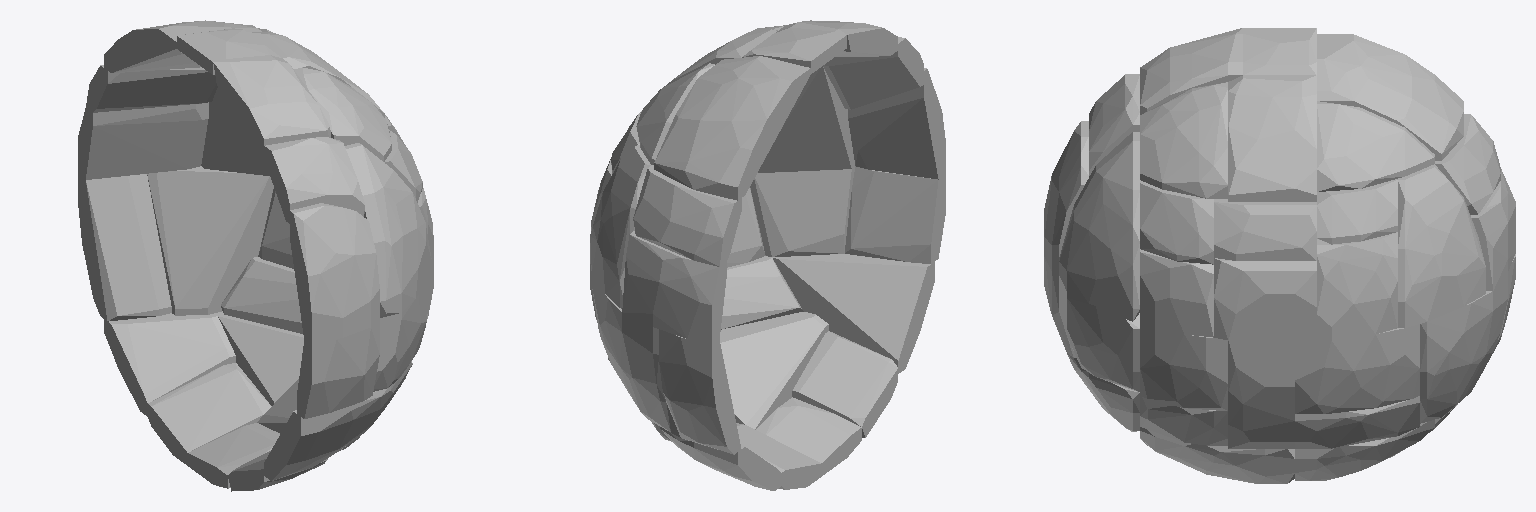
--- What the picture shows (computed from the rendered views, not written in the file) ---
3 views of the same robot in one strip: view 1: azimuth 30°, elevation 25°; view 2: azimuth 150°, elevation 25°; view 3: azimuth 270°, elevation 25° (orthographic).
Robot: root — 34 links, 33 joints (33 fixed); root link link_6930c4d2e7e880b2e20e92c5b8147e4a_convex_piece_0; default pose: every joint at zero.
Links seen in each view (by area): view 1: link_6930c4d2e7e880b2e20e92c5b8147e4a_convex_piece_14, link_6930c4d2e7e880b2e20e92c5b8147e4a_convex_piece_13, link_6930c4d2e7e880b2e20e92c5b8147e4a_convex_piece_15, link_6930c4d2e7e880b2e20e92c5b8147e4a_convex_piece_17, link_6930c4d2e7e880b2e20e92c5b8147e4a_convex_piece_10, link_6930c4d2e7e880b2e20e92c5b8147e4a_convex_piece_2, link_6930c4d2e7e880b2e20e92c5b8147e4a_convex_piece_28, link_6930c4d2e7e880b2e20e92c5b8147e4a_convex_piece_9, link_6930c4d2e7e880b2e20e92c5b8147e4a_convex_piece_16, link_6930c4d2e7e880b2e20e92c5b8147e4a_convex_piece_5, link_6930c4d2e7e880b2e20e92c5b8147e4a_convex_piece_0, link_6930c4d2e7e880b2e20e92c5b8147e4a_convex_piece_18 (+13 smaller); view 2: link_6930c4d2e7e880b2e20e92c5b8147e4a_convex_piece_3, link_6930c4d2e7e880b2e20e92c5b8147e4a_convex_piece_0, link_6930c4d2e7e880b2e20e92c5b8147e4a_convex_piece_5, link_6930c4d2e7e880b2e20e92c5b8147e4a_convex_piece_17, link_6930c4d2e7e880b2e20e92c5b8147e4a_convex_piece_7, link_6930c4d2e7e880b2e20e92c5b8147e4a_convex_piece_6, link_6930c4d2e7e880b2e20e92c5b8147e4a_convex_piece_15, link_6930c4d2e7e880b2e20e92c5b8147e4a_convex_piece_13, link_6930c4d2e7e880b2e20e92c5b8147e4a_convex_piece_18, link_6930c4d2e7e880b2e20e92c5b8147e4a_convex_piece_20, link_6930c4d2e7e880b2e20e92c5b8147e4a_convex_piece_2, link_6930c4d2e7e880b2e20e92c5b8147e4a_convex_piece_14 (+12 smaller); view 3: link_6930c4d2e7e880b2e20e92c5b8147e4a_convex_piece_31, link_6930c4d2e7e880b2e20e92c5b8147e4a_convex_piece_19, link_6930c4d2e7e880b2e20e92c5b8147e4a_convex_piece_2, link_6930c4d2e7e880b2e20e92c5b8147e4a_convex_piece_3, link_6930c4d2e7e880b2e20e92c5b8147e4a_convex_piece_12, link_6930c4d2e7e880b2e20e92c5b8147e4a_convex_piece_30, link_6930c4d2e7e880b2e20e92c5b8147e4a_convex_piece_26, link_6930c4d2e7e880b2e20e92c5b8147e4a_convex_piece_32, link_6930c4d2e7e880b2e20e92c5b8147e4a_convex_piece_4, link_6930c4d2e7e880b2e20e92c5b8147e4a_convex_piece_14, link_6930c4d2e7e880b2e20e92c5b8147e4a_convex_piece_8, link_6930c4d2e7e880b2e20e92c5b8147e4a_convex_piece_23 (+17 smaller).
Link boxes in pixels (bbox=[...]): link_6930c4d2e7e880b2e20e92c5b8147e4a_convex_piece_14: bbox=[147, 166, 273, 315]; link_6930c4d2e7e880b2e20e92c5b8147e4a_convex_piece_13: bbox=[78, 174, 171, 321]; link_6930c4d2e7e880b2e20e92c5b8147e4a_convex_piece_15: bbox=[290, 203, 379, 344]; link_6930c4d2e7e880b2e20e92c5b8147e4a_convex_piece_17: bbox=[78, 102, 208, 179]; link_6930c4d2e7e880b2e20e92c5b8147e4a_convex_piece_10: bbox=[104, 313, 235, 416]; link_6930c4d2e7e880b2e20e92c5b8147e4a_convex_piece_2: bbox=[345, 143, 431, 317]; link_6930c4d2e7e880b2e20e92c5b8147e4a_convex_piece_28: bbox=[213, 55, 330, 151]; link_6930c4d2e7e880b2e20e92c5b8147e4a_convex_piece_9: bbox=[148, 363, 271, 465]; link_6930c4d2e7e880b2e20e92c5b8147e4a_convex_piece_16: bbox=[264, 137, 364, 223]; link_6930c4d2e7e880b2e20e92c5b8147e4a_convex_piece_5: bbox=[297, 322, 379, 418]; link_6930c4d2e7e880b2e20e92c5b8147e4a_convex_piece_0: bbox=[264, 361, 412, 480]; link_6930c4d2e7e880b2e20e92c5b8147e4a_convex_piece_18: bbox=[86, 65, 218, 112]; link_6930c4d2e7e880b2e20e92c5b8147e4a_convex_piece_3: bbox=[654, 56, 810, 200]; link_6930c4d2e7e880b2e20e92c5b8147e4a_convex_piece_0: bbox=[772, 254, 934, 373]; link_6930c4d2e7e880b2e20e92c5b8147e4a_convex_piece_5: bbox=[845, 166, 945, 263]; link_6930c4d2e7e880b2e20e92c5b8147e4a_convex_piece_17: bbox=[622, 231, 726, 344]; link_6930c4d2e7e880b2e20e92c5b8147e4a_convex_piece_7: bbox=[720, 312, 828, 429]; link_6930c4d2e7e880b2e20e92c5b8147e4a_convex_piece_6: bbox=[750, 167, 854, 256]; link_6930c4d2e7e880b2e20e92c5b8147e4a_convex_piece_15: bbox=[848, 68, 945, 179]; link_6930c4d2e7e880b2e20e92c5b8147e4a_convex_piece_13: bbox=[659, 329, 740, 454]; link_6930c4d2e7e880b2e20e92c5b8147e4a_convex_piece_18: bbox=[633, 165, 741, 266]; link_6930c4d2e7e880b2e20e92c5b8147e4a_convex_piece_20: bbox=[792, 331, 897, 437]; link_6930c4d2e7e880b2e20e92c5b8147e4a_convex_piece_2: bbox=[758, 66, 854, 172]; link_6930c4d2e7e880b2e20e92c5b8147e4a_convex_piece_14: bbox=[592, 274, 680, 437]; link_6930c4d2e7e880b2e20e92c5b8147e4a_convex_piece_31: bbox=[1228, 75, 1316, 201]; link_6930c4d2e7e880b2e20e92c5b8147e4a_convex_piece_19: bbox=[1398, 164, 1485, 327]; link_6930c4d2e7e880b2e20e92c5b8147e4a_convex_piece_2: bbox=[1059, 132, 1139, 321]; link_6930c4d2e7e880b2e20e92c5b8147e4a_convex_piece_3: bbox=[1317, 34, 1463, 160]; link_6930c4d2e7e880b2e20e92c5b8147e4a_convex_piece_12: bbox=[1295, 324, 1419, 413]; link_6930c4d2e7e880b2e20e92c5b8147e4a_convex_piece_30: bbox=[1140, 82, 1227, 198]; link_6930c4d2e7e880b2e20e92c5b8147e4a_convex_piece_26: bbox=[1214, 258, 1316, 340]; link_6930c4d2e7e880b2e20e92c5b8147e4a_convex_piece_32: bbox=[1317, 232, 1397, 340]; link_6930c4d2e7e880b2e20e92c5b8147e4a_convex_piece_4: bbox=[1317, 101, 1434, 191]; link_6930c4d2e7e880b2e20e92c5b8147e4a_convex_piece_14: bbox=[1420, 273, 1507, 423]; link_6930c4d2e7e880b2e20e92c5b8147e4a_convex_piece_8: bbox=[1228, 341, 1294, 448]; link_6930c4d2e7e880b2e20e92c5b8147e4a_convex_piece_23: bbox=[1140, 322, 1227, 410].
Bounding box of the posed robot: 0.0229 × 0.0457 × 0.0457 m (x, y, z).
34 mesh visuals loaded from 34 distinct referenced files (34 OBJ).

The robot description file, URDF, robot "root":
<robot name="root">
  <link name="link_6930c4d2e7e880b2e20e92c5b8147e4a_convex_piece_0">
    <inertial>
      <origin rpy="0 0 0" xyz="0 0 0"/>
      <mass value="6.51E-08"/>
      <inertia ixx="2.78E-11" ixy="5.52E-12" ixz="4.18E-12" iyy="1.26E-11" iyz="1.29E-11" izz="2.03E-11"/>
    </inertial>
    <visual>
      <origin rpy="0 0 0" xyz="0 0 0"/>
      <geometry>
        <mesh filename="6930c4d2e7e880b2e20e92c5b8147e4a_convex_piece_0.obj" scale="1.0000E+00"/>
      </geometry>
      <material name="">
        <color rgba="7.50E-01 7.50E-01 7.50E-01 1"/>
      </material>
    </visual>
    <collision>
      <origin rpy="0 0 0" xyz="0 0 0"/>
      <geometry>
        <mesh filename="6930c4d2e7e880b2e20e92c5b8147e4a_convex_piece_0.obj" scale="1.0000E+00"/>
      </geometry>
    </collision>
  </link>
  <link name="link_6930c4d2e7e880b2e20e92c5b8147e4a_convex_piece_1">
    <inertial>
      <origin rpy="0 0 0" xyz="0 0 0"/>
      <mass value="4.29E-08"/>
      <inertia ixx="1.38E-11" ixy="3.60E-13" ixz="-1.03E-12" iyy="1.17E-11" iyz="-4.58E-12" izz="2.66E-12"/>
    </inertial>
    <visual>
      <origin rpy="0 0 0" xyz="0 0 0"/>
      <geometry>
        <mesh filename="6930c4d2e7e880b2e20e92c5b8147e4a_convex_piece_1.obj" scale="1.0000E+00"/>
      </geometry>
      <material name="">
        <color rgba="7.50E-01 7.50E-01 7.50E-01 1"/>
      </material>
    </visual>
    <collision>
      <origin rpy="0 0 0" xyz="0 0 0"/>
      <geometry>
        <mesh filename="6930c4d2e7e880b2e20e92c5b8147e4a_convex_piece_1.obj" scale="1.0000E+00"/>
      </geometry>
    </collision>
  </link>
  <joint name="link_6930c4d2e7e880b2e20e92c5b8147e4a_convex_piece_1_joint" type="fixed">
    <origin rpy="0 0 0" xyz="0 0 0"/>
    <parent link="link_6930c4d2e7e880b2e20e92c5b8147e4a_convex_piece_0"/>
    <child link="link_6930c4d2e7e880b2e20e92c5b8147e4a_convex_piece_1"/>
  </joint>
  <link name="link_6930c4d2e7e880b2e20e92c5b8147e4a_convex_piece_2">
    <inertial>
      <origin rpy="0 0 0" xyz="0 0 0"/>
      <mass value="6.74E-08"/>
      <inertia ixx="2.22E-11" ixy="-8.02E-13" ixz="1.59E-13" iyy="3.99E-12" iyz="-6.76E-12" izz="1.90E-11"/>
    </inertial>
    <visual>
      <origin rpy="0 0 0" xyz="0 0 0"/>
      <geometry>
        <mesh filename="6930c4d2e7e880b2e20e92c5b8147e4a_convex_piece_2.obj" scale="1.0000E+00"/>
      </geometry>
      <material name="">
        <color rgba="7.50E-01 7.50E-01 7.50E-01 1"/>
      </material>
    </visual>
    <collision>
      <origin rpy="0 0 0" xyz="0 0 0"/>
      <geometry>
        <mesh filename="6930c4d2e7e880b2e20e92c5b8147e4a_convex_piece_2.obj" scale="1.0000E+00"/>
      </geometry>
    </collision>
  </link>
  <joint name="link_6930c4d2e7e880b2e20e92c5b8147e4a_convex_piece_2_joint" type="fixed">
    <origin rpy="0 0 0" xyz="0 0 0"/>
    <parent link="link_6930c4d2e7e880b2e20e92c5b8147e4a_convex_piece_1"/>
    <child link="link_6930c4d2e7e880b2e20e92c5b8147e4a_convex_piece_2"/>
  </joint>
  <link name="link_6930c4d2e7e880b2e20e92c5b8147e4a_convex_piece_3">
    <inertial>
      <origin rpy="0 0 0" xyz="0 0 0"/>
      <mass value="8.44E-08"/>
      <inertia ixx="3.72E-11" ixy="-5.54E-12" ixz="-9.44E-12" iyy="3.11E-11" iyz="1.50E-11" izz="1.41E-11"/>
    </inertial>
    <visual>
      <origin rpy="0 0 0" xyz="0 0 0"/>
      <geometry>
        <mesh filename="6930c4d2e7e880b2e20e92c5b8147e4a_convex_piece_3.obj" scale="1.0000E+00"/>
      </geometry>
      <material name="">
        <color rgba="7.50E-01 7.50E-01 7.50E-01 1"/>
      </material>
    </visual>
    <collision>
      <origin rpy="0 0 0" xyz="0 0 0"/>
      <geometry>
        <mesh filename="6930c4d2e7e880b2e20e92c5b8147e4a_convex_piece_3.obj" scale="1.0000E+00"/>
      </geometry>
    </collision>
  </link>
  <joint name="link_6930c4d2e7e880b2e20e92c5b8147e4a_convex_piece_3_joint" type="fixed">
    <origin rpy="0 0 0" xyz="0 0 0"/>
    <parent link="link_6930c4d2e7e880b2e20e92c5b8147e4a_convex_piece_2"/>
    <child link="link_6930c4d2e7e880b2e20e92c5b8147e4a_convex_piece_3"/>
  </joint>
  <link name="link_6930c4d2e7e880b2e20e92c5b8147e4a_convex_piece_4">
    <inertial>
      <origin rpy="0 0 0" xyz="0 0 0"/>
      <mass value="2.76E-08"/>
      <inertia ixx="8.84E-12" ixy="3.46E-13" ixz="7.78E-13" iyy="7.19E-12" iyz="3.34E-12" izz="2.00E-12"/>
    </inertial>
    <visual>
      <origin rpy="0 0 0" xyz="0 0 0"/>
      <geometry>
        <mesh filename="6930c4d2e7e880b2e20e92c5b8147e4a_convex_piece_4.obj" scale="1.0000E+00"/>
      </geometry>
      <material name="">
        <color rgba="7.50E-01 7.50E-01 7.50E-01 1"/>
      </material>
    </visual>
    <collision>
      <origin rpy="0 0 0" xyz="0 0 0"/>
      <geometry>
        <mesh filename="6930c4d2e7e880b2e20e92c5b8147e4a_convex_piece_4.obj" scale="1.0000E+00"/>
      </geometry>
    </collision>
  </link>
  <joint name="link_6930c4d2e7e880b2e20e92c5b8147e4a_convex_piece_4_joint" type="fixed">
    <origin rpy="0 0 0" xyz="0 0 0"/>
    <parent link="link_6930c4d2e7e880b2e20e92c5b8147e4a_convex_piece_3"/>
    <child link="link_6930c4d2e7e880b2e20e92c5b8147e4a_convex_piece_4"/>
  </joint>
  <link name="link_6930c4d2e7e880b2e20e92c5b8147e4a_convex_piece_5">
    <inertial>
      <origin rpy="0 0 0" xyz="0 0 0"/>
      <mass value="3.09E-08"/>
      <inertia ixx="1.41E-11" ixy="4.52E-12" ixz="9.52E-13" iyy="2.46E-12" iyz="2.80E-12" izz="1.51E-11"/>
    </inertial>
    <visual>
      <origin rpy="0 0 0" xyz="0 0 0"/>
      <geometry>
        <mesh filename="6930c4d2e7e880b2e20e92c5b8147e4a_convex_piece_5.obj" scale="1.0000E+00"/>
      </geometry>
      <material name="">
        <color rgba="7.50E-01 7.50E-01 7.50E-01 1"/>
      </material>
    </visual>
    <collision>
      <origin rpy="0 0 0" xyz="0 0 0"/>
      <geometry>
        <mesh filename="6930c4d2e7e880b2e20e92c5b8147e4a_convex_piece_5.obj" scale="1.0000E+00"/>
      </geometry>
    </collision>
  </link>
  <joint name="link_6930c4d2e7e880b2e20e92c5b8147e4a_convex_piece_5_joint" type="fixed">
    <origin rpy="0 0 0" xyz="0 0 0"/>
    <parent link="link_6930c4d2e7e880b2e20e92c5b8147e4a_convex_piece_4"/>
    <child link="link_6930c4d2e7e880b2e20e92c5b8147e4a_convex_piece_5"/>
  </joint>
  <link name="link_6930c4d2e7e880b2e20e92c5b8147e4a_convex_piece_6">
    <inertial>
      <origin rpy="0 0 0" xyz="0 0 0"/>
      <mass value="4.09E-08"/>
      <inertia ixx="1.29E-11" ixy="-9.16E-13" ixz="-2.34E-13" iyy="1.28E-12" iyz="2.89E-12" izz="1.23E-11"/>
    </inertial>
    <visual>
      <origin rpy="0 0 0" xyz="0 0 0"/>
      <geometry>
        <mesh filename="6930c4d2e7e880b2e20e92c5b8147e4a_convex_piece_6.obj" scale="1.0000E+00"/>
      </geometry>
      <material name="">
        <color rgba="7.50E-01 7.50E-01 7.50E-01 1"/>
      </material>
    </visual>
    <collision>
      <origin rpy="0 0 0" xyz="0 0 0"/>
      <geometry>
        <mesh filename="6930c4d2e7e880b2e20e92c5b8147e4a_convex_piece_6.obj" scale="1.0000E+00"/>
      </geometry>
    </collision>
  </link>
  <joint name="link_6930c4d2e7e880b2e20e92c5b8147e4a_convex_piece_6_joint" type="fixed">
    <origin rpy="0 0 0" xyz="0 0 0"/>
    <parent link="link_6930c4d2e7e880b2e20e92c5b8147e4a_convex_piece_5"/>
    <child link="link_6930c4d2e7e880b2e20e92c5b8147e4a_convex_piece_6"/>
  </joint>
  <link name="link_6930c4d2e7e880b2e20e92c5b8147e4a_convex_piece_7">
    <inertial>
      <origin rpy="0 0 0" xyz="0 0 0"/>
      <mass value="8.24E-08"/>
      <inertia ixx="2.71E-11" ixy="-3.48E-14" ixz="-6.12E-13" iyy="2.40E-11" iyz="7.25E-12" izz="4.21E-12"/>
    </inertial>
    <visual>
      <origin rpy="0 0 0" xyz="0 0 0"/>
      <geometry>
        <mesh filename="6930c4d2e7e880b2e20e92c5b8147e4a_convex_piece_7.obj" scale="1.0000E+00"/>
      </geometry>
      <material name="">
        <color rgba="7.50E-01 7.50E-01 7.50E-01 1"/>
      </material>
    </visual>
    <collision>
      <origin rpy="0 0 0" xyz="0 0 0"/>
      <geometry>
        <mesh filename="6930c4d2e7e880b2e20e92c5b8147e4a_convex_piece_7.obj" scale="1.0000E+00"/>
      </geometry>
    </collision>
  </link>
  <joint name="link_6930c4d2e7e880b2e20e92c5b8147e4a_convex_piece_7_joint" type="fixed">
    <origin rpy="0 0 0" xyz="0 0 0"/>
    <parent link="link_6930c4d2e7e880b2e20e92c5b8147e4a_convex_piece_6"/>
    <child link="link_6930c4d2e7e880b2e20e92c5b8147e4a_convex_piece_7"/>
  </joint>
  <link name="link_6930c4d2e7e880b2e20e92c5b8147e4a_convex_piece_8">
    <inertial>
      <origin rpy="0 0 0" xyz="0 0 0"/>
      <mass value="4.13E-08"/>
      <inertia ixx="2.96E-12" ixy="-6.38E-13" ixz="-2.44E-12" iyy="5.96E-12" iyz="5.36E-13" izz="3.53E-12"/>
    </inertial>
    <visual>
      <origin rpy="0 0 0" xyz="0 0 0"/>
      <geometry>
        <mesh filename="6930c4d2e7e880b2e20e92c5b8147e4a_convex_piece_8.obj" scale="1.0000E+00"/>
      </geometry>
      <material name="">
        <color rgba="7.50E-01 7.50E-01 7.50E-01 1"/>
      </material>
    </visual>
    <collision>
      <origin rpy="0 0 0" xyz="0 0 0"/>
      <geometry>
        <mesh filename="6930c4d2e7e880b2e20e92c5b8147e4a_convex_piece_8.obj" scale="1.0000E+00"/>
      </geometry>
    </collision>
  </link>
  <joint name="link_6930c4d2e7e880b2e20e92c5b8147e4a_convex_piece_8_joint" type="fixed">
    <origin rpy="0 0 0" xyz="0 0 0"/>
    <parent link="link_6930c4d2e7e880b2e20e92c5b8147e4a_convex_piece_7"/>
    <child link="link_6930c4d2e7e880b2e20e92c5b8147e4a_convex_piece_8"/>
  </joint>
  <link name="link_6930c4d2e7e880b2e20e92c5b8147e4a_convex_piece_9">
    <inertial>
      <origin rpy="0 0 0" xyz="0 0 0"/>
      <mass value="3.49E-08"/>
      <inertia ixx="1.57E-11" ixy="-1.20E-12" ixz="4.51E-12" iyy="1.61E-11" iyz="-3.86E-12" izz="2.87E-12"/>
    </inertial>
    <visual>
      <origin rpy="0 0 0" xyz="0 0 0"/>
      <geometry>
        <mesh filename="6930c4d2e7e880b2e20e92c5b8147e4a_convex_piece_9.obj" scale="1.0000E+00"/>
      </geometry>
      <material name="">
        <color rgba="7.50E-01 7.50E-01 7.50E-01 1"/>
      </material>
    </visual>
    <collision>
      <origin rpy="0 0 0" xyz="0 0 0"/>
      <geometry>
        <mesh filename="6930c4d2e7e880b2e20e92c5b8147e4a_convex_piece_9.obj" scale="1.0000E+00"/>
      </geometry>
    </collision>
  </link>
  <joint name="link_6930c4d2e7e880b2e20e92c5b8147e4a_convex_piece_9_joint" type="fixed">
    <origin rpy="0 0 0" xyz="0 0 0"/>
    <parent link="link_6930c4d2e7e880b2e20e92c5b8147e4a_convex_piece_8"/>
    <child link="link_6930c4d2e7e880b2e20e92c5b8147e4a_convex_piece_9"/>
  </joint>
  <link name="link_6930c4d2e7e880b2e20e92c5b8147e4a_convex_piece_10">
    <inertial>
      <origin rpy="0 0 0" xyz="0 0 0"/>
      <mass value="4.21E-08"/>
      <inertia ixx="1.92E-11" ixy="-3.68E-12" ixz="4.67E-12" iyy="1.40E-11" iyz="-9.06E-12" izz="9.54E-12"/>
    </inertial>
    <visual>
      <origin rpy="0 0 0" xyz="0 0 0"/>
      <geometry>
        <mesh filename="6930c4d2e7e880b2e20e92c5b8147e4a_convex_piece_10.obj" scale="1.0000E+00"/>
      </geometry>
      <material name="">
        <color rgba="7.50E-01 7.50E-01 7.50E-01 1"/>
      </material>
    </visual>
    <collision>
      <origin rpy="0 0 0" xyz="0 0 0"/>
      <geometry>
        <mesh filename="6930c4d2e7e880b2e20e92c5b8147e4a_convex_piece_10.obj" scale="1.0000E+00"/>
      </geometry>
    </collision>
  </link>
  <joint name="link_6930c4d2e7e880b2e20e92c5b8147e4a_convex_piece_10_joint" type="fixed">
    <origin rpy="0 0 0" xyz="0 0 0"/>
    <parent link="link_6930c4d2e7e880b2e20e92c5b8147e4a_convex_piece_9"/>
    <child link="link_6930c4d2e7e880b2e20e92c5b8147e4a_convex_piece_10"/>
  </joint>
  <link name="link_6930c4d2e7e880b2e20e92c5b8147e4a_convex_piece_11">
    <inertial>
      <origin rpy="0 0 0" xyz="0 0 0"/>
      <mass value="4.04E-08"/>
      <inertia ixx="7.99E-12" ixy="1.47E-12" ixz="-2.31E-12" iyy="6.36E-12" iyz="-3.52E-12" izz="4.23E-12"/>
    </inertial>
    <visual>
      <origin rpy="0 0 0" xyz="0 0 0"/>
      <geometry>
        <mesh filename="6930c4d2e7e880b2e20e92c5b8147e4a_convex_piece_11.obj" scale="1.0000E+00"/>
      </geometry>
      <material name="">
        <color rgba="7.50E-01 7.50E-01 7.50E-01 1"/>
      </material>
    </visual>
    <collision>
      <origin rpy="0 0 0" xyz="0 0 0"/>
      <geometry>
        <mesh filename="6930c4d2e7e880b2e20e92c5b8147e4a_convex_piece_11.obj" scale="1.0000E+00"/>
      </geometry>
    </collision>
  </link>
  <joint name="link_6930c4d2e7e880b2e20e92c5b8147e4a_convex_piece_11_joint" type="fixed">
    <origin rpy="0 0 0" xyz="0 0 0"/>
    <parent link="link_6930c4d2e7e880b2e20e92c5b8147e4a_convex_piece_10"/>
    <child link="link_6930c4d2e7e880b2e20e92c5b8147e4a_convex_piece_11"/>
  </joint>
  <link name="link_6930c4d2e7e880b2e20e92c5b8147e4a_convex_piece_12">
    <inertial>
      <origin rpy="0 0 0" xyz="0 0 0"/>
      <mass value="5.48E-08"/>
      <inertia ixx="5.28E-12" ixy="3.24E-12" ixz="-1.89E-12" iyy="5.15E-12" iyz="-1.88E-12" izz="7.68E-12"/>
    </inertial>
    <visual>
      <origin rpy="0 0 0" xyz="0 0 0"/>
      <geometry>
        <mesh filename="6930c4d2e7e880b2e20e92c5b8147e4a_convex_piece_12.obj" scale="1.0000E+00"/>
      </geometry>
      <material name="">
        <color rgba="7.50E-01 7.50E-01 7.50E-01 1"/>
      </material>
    </visual>
    <collision>
      <origin rpy="0 0 0" xyz="0 0 0"/>
      <geometry>
        <mesh filename="6930c4d2e7e880b2e20e92c5b8147e4a_convex_piece_12.obj" scale="1.0000E+00"/>
      </geometry>
    </collision>
  </link>
  <joint name="link_6930c4d2e7e880b2e20e92c5b8147e4a_convex_piece_12_joint" type="fixed">
    <origin rpy="0 0 0" xyz="0 0 0"/>
    <parent link="link_6930c4d2e7e880b2e20e92c5b8147e4a_convex_piece_11"/>
    <child link="link_6930c4d2e7e880b2e20e92c5b8147e4a_convex_piece_12"/>
  </joint>
  <link name="link_6930c4d2e7e880b2e20e92c5b8147e4a_convex_piece_13">
    <inertial>
      <origin rpy="0 0 0" xyz="0 0 0"/>
      <mass value="4.43E-08"/>
      <inertia ixx="2.04E-11" ixy="-7.21E-12" ixz="2.60E-12" iyy="5.98E-12" iyz="-6.10E-12" izz="2.07E-11"/>
    </inertial>
    <visual>
      <origin rpy="0 0 0" xyz="0 0 0"/>
      <geometry>
        <mesh filename="6930c4d2e7e880b2e20e92c5b8147e4a_convex_piece_13.obj" scale="1.0000E+00"/>
      </geometry>
      <material name="">
        <color rgba="7.50E-01 7.50E-01 7.50E-01 1"/>
      </material>
    </visual>
    <collision>
      <origin rpy="0 0 0" xyz="0 0 0"/>
      <geometry>
        <mesh filename="6930c4d2e7e880b2e20e92c5b8147e4a_convex_piece_13.obj" scale="1.0000E+00"/>
      </geometry>
    </collision>
  </link>
  <joint name="link_6930c4d2e7e880b2e20e92c5b8147e4a_convex_piece_13_joint" type="fixed">
    <origin rpy="0 0 0" xyz="0 0 0"/>
    <parent link="link_6930c4d2e7e880b2e20e92c5b8147e4a_convex_piece_12"/>
    <child link="link_6930c4d2e7e880b2e20e92c5b8147e4a_convex_piece_13"/>
  </joint>
  <link name="link_6930c4d2e7e880b2e20e92c5b8147e4a_convex_piece_14">
    <inertial>
      <origin rpy="0 0 0" xyz="0 0 0"/>
      <mass value="8.59E-08"/>
      <inertia ixx="2.97E-11" ixy="-5.20E-13" ixz="3.31E-13" iyy="5.15E-12" iyz="-8.91E-12" izz="2.59E-11"/>
    </inertial>
    <visual>
      <origin rpy="0 0 0" xyz="0 0 0"/>
      <geometry>
        <mesh filename="6930c4d2e7e880b2e20e92c5b8147e4a_convex_piece_14.obj" scale="1.0000E+00"/>
      </geometry>
      <material name="">
        <color rgba="7.50E-01 7.50E-01 7.50E-01 1"/>
      </material>
    </visual>
    <collision>
      <origin rpy="0 0 0" xyz="0 0 0"/>
      <geometry>
        <mesh filename="6930c4d2e7e880b2e20e92c5b8147e4a_convex_piece_14.obj" scale="1.0000E+00"/>
      </geometry>
    </collision>
  </link>
  <joint name="link_6930c4d2e7e880b2e20e92c5b8147e4a_convex_piece_14_joint" type="fixed">
    <origin rpy="0 0 0" xyz="0 0 0"/>
    <parent link="link_6930c4d2e7e880b2e20e92c5b8147e4a_convex_piece_13"/>
    <child link="link_6930c4d2e7e880b2e20e92c5b8147e4a_convex_piece_14"/>
  </joint>
  <link name="link_6930c4d2e7e880b2e20e92c5b8147e4a_convex_piece_15">
    <inertial>
      <origin rpy="0 0 0" xyz="0 0 0"/>
      <mass value="4.07E-08"/>
      <inertia ixx="1.89E-11" ixy="6.14E-12" ixz="-1.74E-12" iyy="4.16E-12" iyz="-4.68E-12" izz="1.96E-11"/>
    </inertial>
    <visual>
      <origin rpy="0 0 0" xyz="0 0 0"/>
      <geometry>
        <mesh filename="6930c4d2e7e880b2e20e92c5b8147e4a_convex_piece_15.obj" scale="1.0000E+00"/>
      </geometry>
      <material name="">
        <color rgba="7.50E-01 7.50E-01 7.50E-01 1"/>
      </material>
    </visual>
    <collision>
      <origin rpy="0 0 0" xyz="0 0 0"/>
      <geometry>
        <mesh filename="6930c4d2e7e880b2e20e92c5b8147e4a_convex_piece_15.obj" scale="1.0000E+00"/>
      </geometry>
    </collision>
  </link>
  <joint name="link_6930c4d2e7e880b2e20e92c5b8147e4a_convex_piece_15_joint" type="fixed">
    <origin rpy="0 0 0" xyz="0 0 0"/>
    <parent link="link_6930c4d2e7e880b2e20e92c5b8147e4a_convex_piece_14"/>
    <child link="link_6930c4d2e7e880b2e20e92c5b8147e4a_convex_piece_15"/>
  </joint>
  <link name="link_6930c4d2e7e880b2e20e92c5b8147e4a_convex_piece_16">
    <inertial>
      <origin rpy="0 0 0" xyz="0 0 0"/>
      <mass value="3.17E-08"/>
      <inertia ixx="1.43E-11" ixy="3.50E-12" ixz="-2.97E-12" iyy="7.56E-12" iyz="-6.86E-12" izz="1.00E-11"/>
    </inertial>
    <visual>
      <origin rpy="0 0 0" xyz="0 0 0"/>
      <geometry>
        <mesh filename="6930c4d2e7e880b2e20e92c5b8147e4a_convex_piece_16.obj" scale="1.0000E+00"/>
      </geometry>
      <material name="">
        <color rgba="7.50E-01 7.50E-01 7.50E-01 1"/>
      </material>
    </visual>
    <collision>
      <origin rpy="0 0 0" xyz="0 0 0"/>
      <geometry>
        <mesh filename="6930c4d2e7e880b2e20e92c5b8147e4a_convex_piece_16.obj" scale="1.0000E+00"/>
      </geometry>
    </collision>
  </link>
  <joint name="link_6930c4d2e7e880b2e20e92c5b8147e4a_convex_piece_16_joint" type="fixed">
    <origin rpy="0 0 0" xyz="0 0 0"/>
    <parent link="link_6930c4d2e7e880b2e20e92c5b8147e4a_convex_piece_15"/>
    <child link="link_6930c4d2e7e880b2e20e92c5b8147e4a_convex_piece_16"/>
  </joint>
  <link name="link_6930c4d2e7e880b2e20e92c5b8147e4a_convex_piece_17">
    <inertial>
      <origin rpy="0 0 0" xyz="0 0 0"/>
      <mass value="4.21E-08"/>
      <inertia ixx="1.84E-11" ixy="-4.77E-12" ixz="-9.23E-13" iyy="2.55E-12" iyz="3.40E-12" izz="1.92E-11"/>
    </inertial>
    <visual>
      <origin rpy="0 0 0" xyz="0 0 0"/>
      <geometry>
        <mesh filename="6930c4d2e7e880b2e20e92c5b8147e4a_convex_piece_17.obj" scale="1.0000E+00"/>
      </geometry>
      <material name="">
        <color rgba="7.50E-01 7.50E-01 7.50E-01 1"/>
      </material>
    </visual>
    <collision>
      <origin rpy="0 0 0" xyz="0 0 0"/>
      <geometry>
        <mesh filename="6930c4d2e7e880b2e20e92c5b8147e4a_convex_piece_17.obj" scale="1.0000E+00"/>
      </geometry>
    </collision>
  </link>
  <joint name="link_6930c4d2e7e880b2e20e92c5b8147e4a_convex_piece_17_joint" type="fixed">
    <origin rpy="0 0 0" xyz="0 0 0"/>
    <parent link="link_6930c4d2e7e880b2e20e92c5b8147e4a_convex_piece_16"/>
    <child link="link_6930c4d2e7e880b2e20e92c5b8147e4a_convex_piece_17"/>
  </joint>
  <link name="link_6930c4d2e7e880b2e20e92c5b8147e4a_convex_piece_18">
    <inertial>
      <origin rpy="0 0 0" xyz="0 0 0"/>
      <mass value="3.69E-08"/>
      <inertia ixx="1.61E-11" ixy="-3.66E-12" ixz="-2.16E-12" iyy="5.85E-12" iyz="7.02E-12" izz="1.32E-11"/>
    </inertial>
    <visual>
      <origin rpy="0 0 0" xyz="0 0 0"/>
      <geometry>
        <mesh filename="6930c4d2e7e880b2e20e92c5b8147e4a_convex_piece_18.obj" scale="1.0000E+00"/>
      </geometry>
      <material name="">
        <color rgba="7.50E-01 7.50E-01 7.50E-01 1"/>
      </material>
    </visual>
    <collision>
      <origin rpy="0 0 0" xyz="0 0 0"/>
      <geometry>
        <mesh filename="6930c4d2e7e880b2e20e92c5b8147e4a_convex_piece_18.obj" scale="1.0000E+00"/>
      </geometry>
    </collision>
  </link>
  <joint name="link_6930c4d2e7e880b2e20e92c5b8147e4a_convex_piece_18_joint" type="fixed">
    <origin rpy="0 0 0" xyz="0 0 0"/>
    <parent link="link_6930c4d2e7e880b2e20e92c5b8147e4a_convex_piece_17"/>
    <child link="link_6930c4d2e7e880b2e20e92c5b8147e4a_convex_piece_18"/>
  </joint>
  <link name="link_6930c4d2e7e880b2e20e92c5b8147e4a_convex_piece_19">
    <inertial>
      <origin rpy="0 0 0" xyz="0 0 0"/>
      <mass value="5.88E-08"/>
      <inertia ixx="1.57E-11" ixy="2.67E-12" ixz="1.00E-12" iyy="3.68E-12" iyz="5.01E-12" izz="1.38E-11"/>
    </inertial>
    <visual>
      <origin rpy="0 0 0" xyz="0 0 0"/>
      <geometry>
        <mesh filename="6930c4d2e7e880b2e20e92c5b8147e4a_convex_piece_19.obj" scale="1.0000E+00"/>
      </geometry>
      <material name="">
        <color rgba="7.50E-01 7.50E-01 7.50E-01 1"/>
      </material>
    </visual>
    <collision>
      <origin rpy="0 0 0" xyz="0 0 0"/>
      <geometry>
        <mesh filename="6930c4d2e7e880b2e20e92c5b8147e4a_convex_piece_19.obj" scale="1.0000E+00"/>
      </geometry>
    </collision>
  </link>
  <joint name="link_6930c4d2e7e880b2e20e92c5b8147e4a_convex_piece_19_joint" type="fixed">
    <origin rpy="0 0 0" xyz="0 0 0"/>
    <parent link="link_6930c4d2e7e880b2e20e92c5b8147e4a_convex_piece_18"/>
    <child link="link_6930c4d2e7e880b2e20e92c5b8147e4a_convex_piece_19"/>
  </joint>
  <link name="link_6930c4d2e7e880b2e20e92c5b8147e4a_convex_piece_20">
    <inertial>
      <origin rpy="0 0 0" xyz="0 0 0"/>
      <mass value="2.81E-08"/>
      <inertia ixx="1.30E-11" ixy="2.09E-12" ixz="3.91E-12" iyy="1.17E-11" iyz="5.29E-12" izz="4.64E-12"/>
    </inertial>
    <visual>
      <origin rpy="0 0 0" xyz="0 0 0"/>
      <geometry>
        <mesh filename="6930c4d2e7e880b2e20e92c5b8147e4a_convex_piece_20.obj" scale="1.0000E+00"/>
      </geometry>
      <material name="">
        <color rgba="7.50E-01 7.50E-01 7.50E-01 1"/>
      </material>
    </visual>
    <collision>
      <origin rpy="0 0 0" xyz="0 0 0"/>
      <geometry>
        <mesh filename="6930c4d2e7e880b2e20e92c5b8147e4a_convex_piece_20.obj" scale="1.0000E+00"/>
      </geometry>
    </collision>
  </link>
  <joint name="link_6930c4d2e7e880b2e20e92c5b8147e4a_convex_piece_20_joint" type="fixed">
    <origin rpy="0 0 0" xyz="0 0 0"/>
    <parent link="link_6930c4d2e7e880b2e20e92c5b8147e4a_convex_piece_19"/>
    <child link="link_6930c4d2e7e880b2e20e92c5b8147e4a_convex_piece_20"/>
  </joint>
  <link name="link_6930c4d2e7e880b2e20e92c5b8147e4a_convex_piece_21">
    <inertial>
      <origin rpy="0 0 0" xyz="0 0 0"/>
      <mass value="2.31E-08"/>
      <inertia ixx="1.07E-11" ixy="4.31E-13" ixz="3.63E-12" iyy="1.18E-11" iyz="1.23E-12" izz="1.62E-12"/>
    </inertial>
    <visual>
      <origin rpy="0 0 0" xyz="0 0 0"/>
      <geometry>
        <mesh filename="6930c4d2e7e880b2e20e92c5b8147e4a_convex_piece_21.obj" scale="1.0000E+00"/>
      </geometry>
      <material name="">
        <color rgba="7.50E-01 7.50E-01 7.50E-01 1"/>
      </material>
    </visual>
    <collision>
      <origin rpy="0 0 0" xyz="0 0 0"/>
      <geometry>
        <mesh filename="6930c4d2e7e880b2e20e92c5b8147e4a_convex_piece_21.obj" scale="1.0000E+00"/>
      </geometry>
    </collision>
  </link>
  <joint name="link_6930c4d2e7e880b2e20e92c5b8147e4a_convex_piece_21_joint" type="fixed">
    <origin rpy="0 0 0" xyz="0 0 0"/>
    <parent link="link_6930c4d2e7e880b2e20e92c5b8147e4a_convex_piece_20"/>
    <child link="link_6930c4d2e7e880b2e20e92c5b8147e4a_convex_piece_21"/>
  </joint>
  <link name="link_6930c4d2e7e880b2e20e92c5b8147e4a_convex_piece_22">
    <inertial>
      <origin rpy="0 0 0" xyz="0 0 0"/>
      <mass value="2.61E-08"/>
      <inertia ixx="5.80E-12" ixy="-1.11E-12" ixz="-1.35E-12" iyy="3.98E-12" iyz="2.77E-12" izz="3.21E-12"/>
    </inertial>
    <visual>
      <origin rpy="0 0 0" xyz="0 0 0"/>
      <geometry>
        <mesh filename="6930c4d2e7e880b2e20e92c5b8147e4a_convex_piece_22.obj" scale="1.0000E+00"/>
      </geometry>
      <material name="">
        <color rgba="7.50E-01 7.50E-01 7.50E-01 1"/>
      </material>
    </visual>
    <collision>
      <origin rpy="0 0 0" xyz="0 0 0"/>
      <geometry>
        <mesh filename="6930c4d2e7e880b2e20e92c5b8147e4a_convex_piece_22.obj" scale="1.0000E+00"/>
      </geometry>
    </collision>
  </link>
  <joint name="link_6930c4d2e7e880b2e20e92c5b8147e4a_convex_piece_22_joint" type="fixed">
    <origin rpy="0 0 0" xyz="0 0 0"/>
    <parent link="link_6930c4d2e7e880b2e20e92c5b8147e4a_convex_piece_21"/>
    <child link="link_6930c4d2e7e880b2e20e92c5b8147e4a_convex_piece_22"/>
  </joint>
  <link name="link_6930c4d2e7e880b2e20e92c5b8147e4a_convex_piece_23">
    <inertial>
      <origin rpy="0 0 0" xyz="0 0 0"/>
      <mass value="3.60E-08"/>
      <inertia ixx="4.35E-12" ixy="-2.53E-12" ixz="-1.18E-12" iyy="3.11E-12" iyz="1.51E-12" izz="5.65E-12"/>
    </inertial>
    <visual>
      <origin rpy="0 0 0" xyz="0 0 0"/>
      <geometry>
        <mesh filename="6930c4d2e7e880b2e20e92c5b8147e4a_convex_piece_23.obj" scale="1.0000E+00"/>
      </geometry>
      <material name="">
        <color rgba="7.50E-01 7.50E-01 7.50E-01 1"/>
      </material>
    </visual>
    <collision>
      <origin rpy="0 0 0" xyz="0 0 0"/>
      <geometry>
        <mesh filename="6930c4d2e7e880b2e20e92c5b8147e4a_convex_piece_23.obj" scale="1.0000E+00"/>
      </geometry>
    </collision>
  </link>
  <joint name="link_6930c4d2e7e880b2e20e92c5b8147e4a_convex_piece_23_joint" type="fixed">
    <origin rpy="0 0 0" xyz="0 0 0"/>
    <parent link="link_6930c4d2e7e880b2e20e92c5b8147e4a_convex_piece_22"/>
    <child link="link_6930c4d2e7e880b2e20e92c5b8147e4a_convex_piece_23"/>
  </joint>
  <link name="link_6930c4d2e7e880b2e20e92c5b8147e4a_convex_piece_24">
    <inertial>
      <origin rpy="0 0 0" xyz="0 0 0"/>
      <mass value="2.34E-08"/>
      <inertia ixx="2.87E-12" ixy="-1.78E-12" ixz="6.43E-13" iyy="1.84E-12" iyz="-8.62E-13" izz="3.91E-12"/>
    </inertial>
    <visual>
      <origin rpy="0 0 0" xyz="0 0 0"/>
      <geometry>
        <mesh filename="6930c4d2e7e880b2e20e92c5b8147e4a_convex_piece_24.obj" scale="1.0000E+00"/>
      </geometry>
      <material name="">
        <color rgba="7.50E-01 7.50E-01 7.50E-01 1"/>
      </material>
    </visual>
    <collision>
      <origin rpy="0 0 0" xyz="0 0 0"/>
      <geometry>
        <mesh filename="6930c4d2e7e880b2e20e92c5b8147e4a_convex_piece_24.obj" scale="1.0000E+00"/>
      </geometry>
    </collision>
  </link>
  <joint name="link_6930c4d2e7e880b2e20e92c5b8147e4a_convex_piece_24_joint" type="fixed">
    <origin rpy="0 0 0" xyz="0 0 0"/>
    <parent link="link_6930c4d2e7e880b2e20e92c5b8147e4a_convex_piece_23"/>
    <child link="link_6930c4d2e7e880b2e20e92c5b8147e4a_convex_piece_24"/>
  </joint>
  <link name="link_6930c4d2e7e880b2e20e92c5b8147e4a_convex_piece_25">
    <inertial>
      <origin rpy="0 0 0" xyz="0 0 0"/>
      <mass value="2.43E-08"/>
      <inertia ixx="5.12E-12" ixy="-1.22E-12" ixz="1.23E-12" iyy="3.25E-12" iyz="-2.48E-12" izz="3.34E-12"/>
    </inertial>
    <visual>
      <origin rpy="0 0 0" xyz="0 0 0"/>
      <geometry>
        <mesh filename="6930c4d2e7e880b2e20e92c5b8147e4a_convex_piece_25.obj" scale="1.0000E+00"/>
      </geometry>
      <material name="">
        <color rgba="7.50E-01 7.50E-01 7.50E-01 1"/>
      </material>
    </visual>
    <collision>
      <origin rpy="0 0 0" xyz="0 0 0"/>
      <geometry>
        <mesh filename="6930c4d2e7e880b2e20e92c5b8147e4a_convex_piece_25.obj" scale="1.0000E+00"/>
      </geometry>
    </collision>
  </link>
  <joint name="link_6930c4d2e7e880b2e20e92c5b8147e4a_convex_piece_25_joint" type="fixed">
    <origin rpy="0 0 0" xyz="0 0 0"/>
    <parent link="link_6930c4d2e7e880b2e20e92c5b8147e4a_convex_piece_24"/>
    <child link="link_6930c4d2e7e880b2e20e92c5b8147e4a_convex_piece_25"/>
  </joint>
  <link name="link_6930c4d2e7e880b2e20e92c5b8147e4a_convex_piece_26">
    <inertial>
      <origin rpy="0 0 0" xyz="0 0 0"/>
      <mass value="3.03E-08"/>
      <inertia ixx="9.64E-13" ixy="-4.50E-13" ixz="1.21E-12" iyy="3.66E-12" iyz="-1.89E-13" izz="3.32E-12"/>
    </inertial>
    <visual>
      <origin rpy="0 0 0" xyz="0 0 0"/>
      <geometry>
        <mesh filename="6930c4d2e7e880b2e20e92c5b8147e4a_convex_piece_26.obj" scale="1.0000E+00"/>
      </geometry>
      <material name="">
        <color rgba="7.50E-01 7.50E-01 7.50E-01 1"/>
      </material>
    </visual>
    <collision>
      <origin rpy="0 0 0" xyz="0 0 0"/>
      <geometry>
        <mesh filename="6930c4d2e7e880b2e20e92c5b8147e4a_convex_piece_26.obj" scale="1.0000E+00"/>
      </geometry>
    </collision>
  </link>
  <joint name="link_6930c4d2e7e880b2e20e92c5b8147e4a_convex_piece_26_joint" type="fixed">
    <origin rpy="0 0 0" xyz="0 0 0"/>
    <parent link="link_6930c4d2e7e880b2e20e92c5b8147e4a_convex_piece_25"/>
    <child link="link_6930c4d2e7e880b2e20e92c5b8147e4a_convex_piece_26"/>
  </joint>
  <link name="link_6930c4d2e7e880b2e20e92c5b8147e4a_convex_piece_27">
    <inertial>
      <origin rpy="0 0 0" xyz="0 0 0"/>
      <mass value="2.28E-08"/>
      <inertia ixx="2.77E-12" ixy="-2.53E-13" ixz="1.83E-12" iyy="3.94E-12" iyz="-3.57E-13" izz="1.63E-12"/>
    </inertial>
    <visual>
      <origin rpy="0 0 0" xyz="0 0 0"/>
      <geometry>
        <mesh filename="6930c4d2e7e880b2e20e92c5b8147e4a_convex_piece_27.obj" scale="1.0000E+00"/>
      </geometry>
      <material name="">
        <color rgba="7.50E-01 7.50E-01 7.50E-01 1"/>
      </material>
    </visual>
    <collision>
      <origin rpy="0 0 0" xyz="0 0 0"/>
      <geometry>
        <mesh filename="6930c4d2e7e880b2e20e92c5b8147e4a_convex_piece_27.obj" scale="1.0000E+00"/>
      </geometry>
    </collision>
  </link>
  <joint name="link_6930c4d2e7e880b2e20e92c5b8147e4a_convex_piece_27_joint" type="fixed">
    <origin rpy="0 0 0" xyz="0 0 0"/>
    <parent link="link_6930c4d2e7e880b2e20e92c5b8147e4a_convex_piece_26"/>
    <child link="link_6930c4d2e7e880b2e20e92c5b8147e4a_convex_piece_27"/>
  </joint>
  <link name="link_6930c4d2e7e880b2e20e92c5b8147e4a_convex_piece_28">
    <inertial>
      <origin rpy="0 0 0" xyz="0 0 0"/>
      <mass value="3.91E-08"/>
      <inertia ixx="1.80E-11" ixy="2.52E-12" ixz="-5.59E-12" iyy="1.70E-11" iyz="-6.48E-12" izz="5.61E-12"/>
    </inertial>
    <visual>
      <origin rpy="0 0 0" xyz="0 0 0"/>
      <geometry>
        <mesh filename="6930c4d2e7e880b2e20e92c5b8147e4a_convex_piece_28.obj" scale="1.0000E+00"/>
      </geometry>
      <material name="">
        <color rgba="7.50E-01 7.50E-01 7.50E-01 1"/>
      </material>
    </visual>
    <collision>
      <origin rpy="0 0 0" xyz="0 0 0"/>
      <geometry>
        <mesh filename="6930c4d2e7e880b2e20e92c5b8147e4a_convex_piece_28.obj" scale="1.0000E+00"/>
      </geometry>
    </collision>
  </link>
  <joint name="link_6930c4d2e7e880b2e20e92c5b8147e4a_convex_piece_28_joint" type="fixed">
    <origin rpy="0 0 0" xyz="0 0 0"/>
    <parent link="link_6930c4d2e7e880b2e20e92c5b8147e4a_convex_piece_27"/>
    <child link="link_6930c4d2e7e880b2e20e92c5b8147e4a_convex_piece_28"/>
  </joint>
  <link name="link_6930c4d2e7e880b2e20e92c5b8147e4a_convex_piece_29">
    <inertial>
      <origin rpy="0 0 0" xyz="0 0 0"/>
      <mass value="1.89E-08"/>
      <inertia ixx="8.81E-12" ixy="-5.91E-15" ixz="-3.00E-12" iyy="9.84E-12" iyz="1.70E-14" izz="1.19E-12"/>
    </inertial>
    <visual>
      <origin rpy="0 0 0" xyz="0 0 0"/>
      <geometry>
        <mesh filename="6930c4d2e7e880b2e20e92c5b8147e4a_convex_piece_29.obj" scale="1.0000E+00"/>
      </geometry>
      <material name="">
        <color rgba="7.50E-01 7.50E-01 7.50E-01 1"/>
      </material>
    </visual>
    <collision>
      <origin rpy="0 0 0" xyz="0 0 0"/>
      <geometry>
        <mesh filename="6930c4d2e7e880b2e20e92c5b8147e4a_convex_piece_29.obj" scale="1.0000E+00"/>
      </geometry>
    </collision>
  </link>
  <joint name="link_6930c4d2e7e880b2e20e92c5b8147e4a_convex_piece_29_joint" type="fixed">
    <origin rpy="0 0 0" xyz="0 0 0"/>
    <parent link="link_6930c4d2e7e880b2e20e92c5b8147e4a_convex_piece_28"/>
    <child link="link_6930c4d2e7e880b2e20e92c5b8147e4a_convex_piece_29"/>
  </joint>
  <link name="link_6930c4d2e7e880b2e20e92c5b8147e4a_convex_piece_30">
    <inertial>
      <origin rpy="0 0 0" xyz="0 0 0"/>
      <mass value="4.06E-08"/>
      <inertia ixx="1.40E-11" ixy="-1.16E-13" ixz="2.15E-13" iyy="1.08E-11" iyz="-5.73E-12" izz="3.67E-12"/>
    </inertial>
    <visual>
      <origin rpy="0 0 0" xyz="0 0 0"/>
      <geometry>
        <mesh filename="6930c4d2e7e880b2e20e92c5b8147e4a_convex_piece_30.obj" scale="1.0000E+00"/>
      </geometry>
      <material name="">
        <color rgba="7.50E-01 7.50E-01 7.50E-01 1"/>
      </material>
    </visual>
    <collision>
      <origin rpy="0 0 0" xyz="0 0 0"/>
      <geometry>
        <mesh filename="6930c4d2e7e880b2e20e92c5b8147e4a_convex_piece_30.obj" scale="1.0000E+00"/>
      </geometry>
    </collision>
  </link>
  <joint name="link_6930c4d2e7e880b2e20e92c5b8147e4a_convex_piece_30_joint" type="fixed">
    <origin rpy="0 0 0" xyz="0 0 0"/>
    <parent link="link_6930c4d2e7e880b2e20e92c5b8147e4a_convex_piece_29"/>
    <child link="link_6930c4d2e7e880b2e20e92c5b8147e4a_convex_piece_30"/>
  </joint>
  <link name="link_6930c4d2e7e880b2e20e92c5b8147e4a_convex_piece_31">
    <inertial>
      <origin rpy="0 0 0" xyz="0 0 0"/>
      <mass value="5.07E-08"/>
      <inertia ixx="1.55E-11" ixy="-5.38E-14" ixz="1.16E-12" iyy="1.57E-11" iyz="-5.72E-13" izz="8.54E-13"/>
    </inertial>
    <visual>
      <origin rpy="0 0 0" xyz="0 0 0"/>
      <geometry>
        <mesh filename="6930c4d2e7e880b2e20e92c5b8147e4a_convex_piece_31.obj" scale="1.0000E+00"/>
      </geometry>
      <material name="">
        <color rgba="7.50E-01 7.50E-01 7.50E-01 1"/>
      </material>
    </visual>
    <collision>
      <origin rpy="0 0 0" xyz="0 0 0"/>
      <geometry>
        <mesh filename="6930c4d2e7e880b2e20e92c5b8147e4a_convex_piece_31.obj" scale="1.0000E+00"/>
      </geometry>
    </collision>
  </link>
  <joint name="link_6930c4d2e7e880b2e20e92c5b8147e4a_convex_piece_31_joint" type="fixed">
    <origin rpy="0 0 0" xyz="0 0 0"/>
    <parent link="link_6930c4d2e7e880b2e20e92c5b8147e4a_convex_piece_30"/>
    <child link="link_6930c4d2e7e880b2e20e92c5b8147e4a_convex_piece_31"/>
  </joint>
  <link name="link_6930c4d2e7e880b2e20e92c5b8147e4a_convex_piece_32">
    <inertial>
      <origin rpy="0 0 0" xyz="0 0 0"/>
      <mass value="3.37E-08"/>
      <inertia ixx="3.14E-12" ixy="2.12E-12" ixz="1.33E-12" iyy="3.49E-12" iyz="1.25E-12" izz="4.60E-12"/>
    </inertial>
    <visual>
      <origin rpy="0 0 0" xyz="0 0 0"/>
      <geometry>
        <mesh filename="6930c4d2e7e880b2e20e92c5b8147e4a_convex_piece_32.obj" scale="1.0000E+00"/>
      </geometry>
      <material name="">
        <color rgba="7.50E-01 7.50E-01 7.50E-01 1"/>
      </material>
    </visual>
    <collision>
      <origin rpy="0 0 0" xyz="0 0 0"/>
      <geometry>
        <mesh filename="6930c4d2e7e880b2e20e92c5b8147e4a_convex_piece_32.obj" scale="1.0000E+00"/>
      </geometry>
    </collision>
  </link>
  <joint name="link_6930c4d2e7e880b2e20e92c5b8147e4a_convex_piece_32_joint" type="fixed">
    <origin rpy="0 0 0" xyz="0 0 0"/>
    <parent link="link_6930c4d2e7e880b2e20e92c5b8147e4a_convex_piece_31"/>
    <child link="link_6930c4d2e7e880b2e20e92c5b8147e4a_convex_piece_32"/>
  </joint>
  <link name="link_6930c4d2e7e880b2e20e92c5b8147e4a_convex_piece_33">
    <inertial>
      <origin rpy="0 0 0" xyz="0 0 0"/>
      <mass value="1.89E-08"/>
      <inertia ixx="3.71E-12" ixy="7.78E-13" ixz="1.21E-12" iyy="3.16E-12" iyz="1.66E-12" izz="1.84E-12"/>
    </inertial>
    <visual>
      <origin rpy="0 0 0" xyz="0 0 0"/>
      <geometry>
        <mesh filename="6930c4d2e7e880b2e20e92c5b8147e4a_convex_piece_33.obj" scale="1.0000E+00"/>
      </geometry>
      <material name="">
        <color rgba="7.50E-01 7.50E-01 7.50E-01 1"/>
      </material>
    </visual>
    <collision>
      <origin rpy="0 0 0" xyz="0 0 0"/>
      <geometry>
        <mesh filename="6930c4d2e7e880b2e20e92c5b8147e4a_convex_piece_33.obj" scale="1.0000E+00"/>
      </geometry>
    </collision>
  </link>
  <joint name="link_6930c4d2e7e880b2e20e92c5b8147e4a_convex_piece_33_joint" type="fixed">
    <origin rpy="0 0 0" xyz="0 0 0"/>
    <parent link="link_6930c4d2e7e880b2e20e92c5b8147e4a_convex_piece_32"/>
    <child link="link_6930c4d2e7e880b2e20e92c5b8147e4a_convex_piece_33"/>
  </joint>
</robot>
